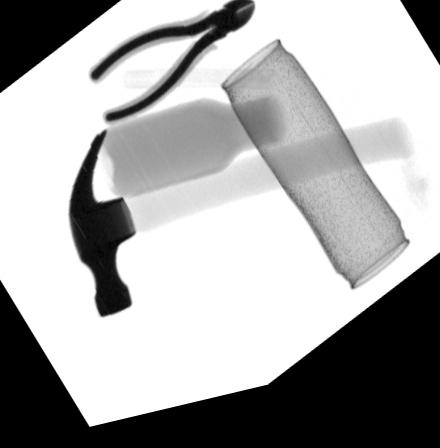Hammer: (67, 134, 414, 323)
Pliers: (88, 8, 256, 130)
